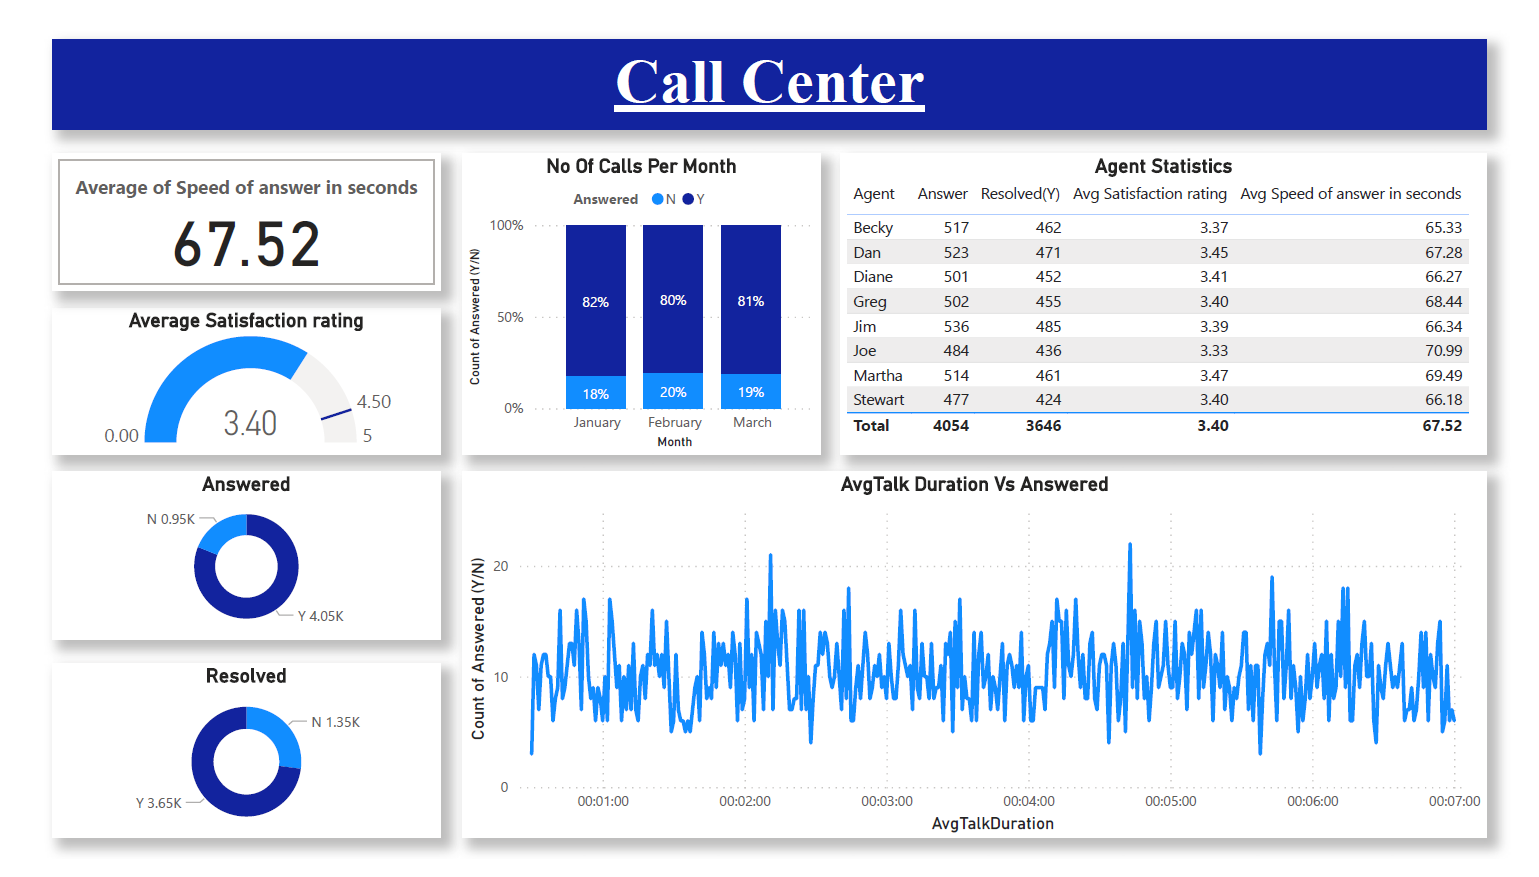

The dashboard page shown, as its layout file describes it:
{"tool":"powerbi","page":{"name":"Page 1","canvas":[1280,720],"ordinal":0},"visuals":[{"type":"gauge","title":"Average Satisfaction rating ","fields":{"Y":["Sheet1.Satisfaction rating"],"MaxValue":["Sheet1.Satisfaction rating"]},"box":[24.5,249.2,332.3,124.6],"z":0},{"type":"donutChart","title":"Answered","fields":{"Category":["Sheet1.Answered (Y/N)"],"Y":["Sheet1.Answered (Y/N)"]},"box":[24.5,388.9,332.3,143.5],"z":1000},{"type":"donutChart","title":"Resolved ","fields":{"Series":["Sheet1.Resolved"],"Y":["Sheet1.Resolved"]},"box":[24.5,553.2,332.3,149.1],"z":2000},{"type":"cardVisual","fields":{"Data":["Sheet1.Speed of answer in seconds"]},"box":[24.5,117.1,332.3,117.1],"z":3000},{"type":"hundredPercentStackedColumnChart","title":"No Of Calls Per Month","fields":{"Category":["Sheet1.Date.Variation.Date Hierarchy.Month"],"Y":["Sheet1.Answered (Y/N)"],"Series":["Sheet1.Answered (Y/N)"]},"box":[375.7,117.1,305.8,256.8],"z":4000},{"type":"tableEx","title":"Agent Statistics","fields":{"Values":["Sheet1.Agent","Sheet1.Measure","Sheet1.Measure1","Sheet1.Satisfaction rating","Sheet1.Speed of answer in seconds"]},"box":[698.5,117.1,553.2,256.8],"z":5000},{"type":"textbox","box":[24.5,18.9,1227.1,77.4],"z":6000},{"type":"lineChart","title":"AvgTalk Duration Vs Answered","fields":{"Y":["Sheet1.Answered (Y/N)"],"Category":["Sheet1.AvgTalkDuration"]},"box":[375.7,388.9,876,313.4],"z":7000}]}

Visuals, with their boxes in screenshot pixels (x1, y1, x2, y2), scaled from the page's 1280x720 canvas onto the 1539x877 screenshot:
"Average Satisfaction rating " gauge: <box>29,304,429,455</box>
"Answered" donutChart: <box>29,474,429,648</box>
"Resolved " donutChart: <box>29,674,429,855</box>
cardVisual - Sheet1.Speed of answer in seconds: <box>29,143,429,285</box>
"No Of Calls Per Month" hundredPercentStackedColumnChart: <box>452,143,819,455</box>
"Agent Statistics" tableEx: <box>840,143,1505,455</box>
textbox: <box>29,23,1505,117</box>
"AvgTalk Duration Vs Answered" lineChart: <box>452,474,1505,855</box>
